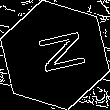N_W: (26, 30, 84, 80)
